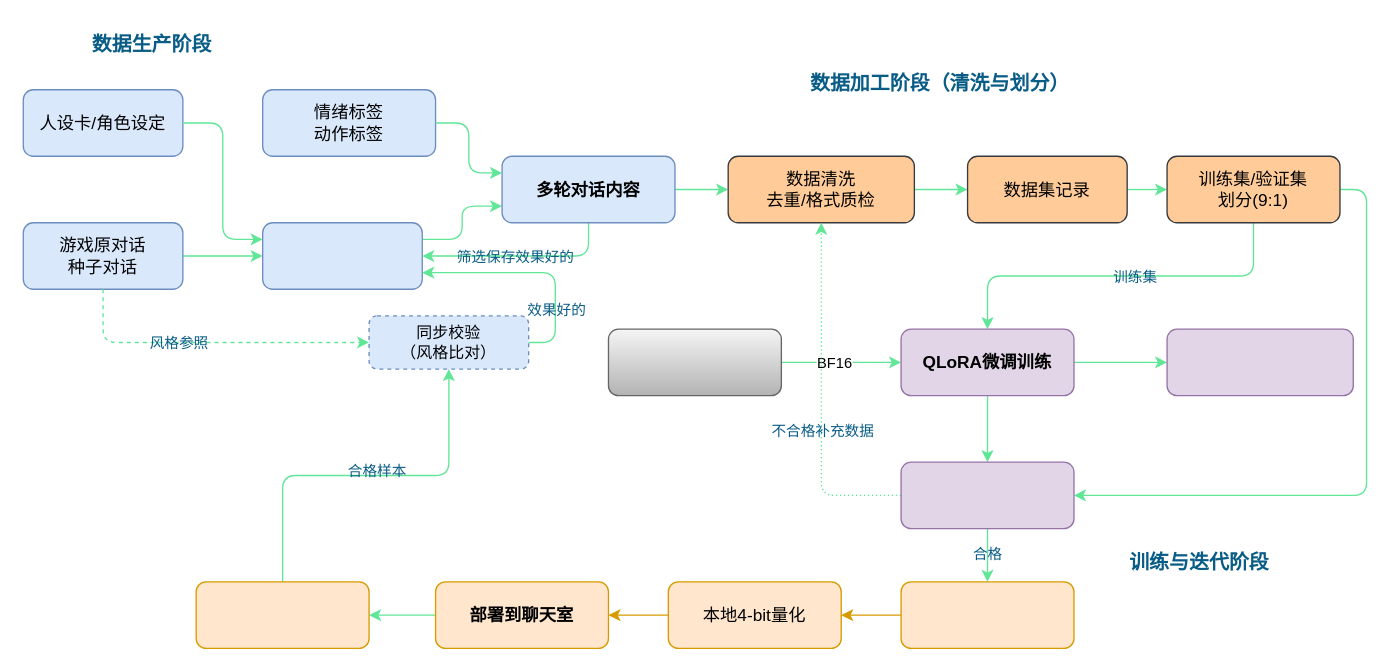
Some shapes in this 1400 by 672 pixel diagram are drawn without their labels. The shapes that lost their labels are listed below. From the top down, each one's centre as x and y in pixels, then its label:
the point at 341,255: LLM模型扩写
the point at 694,362: 基座模型 Qwen3.5-9B
the point at 1259,362: 训练监控 (loss/过拟合)
the point at 987,495: 效果评估 人工试聊
the point at 282,614: 输出对话内容 (试聊反馈)
the point at 987,614: 合并导出GGUF
